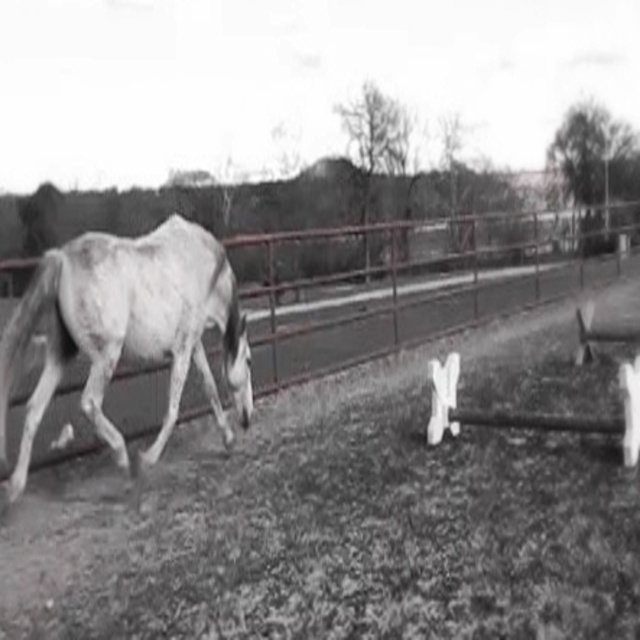Horse: (0, 207, 257, 519)
